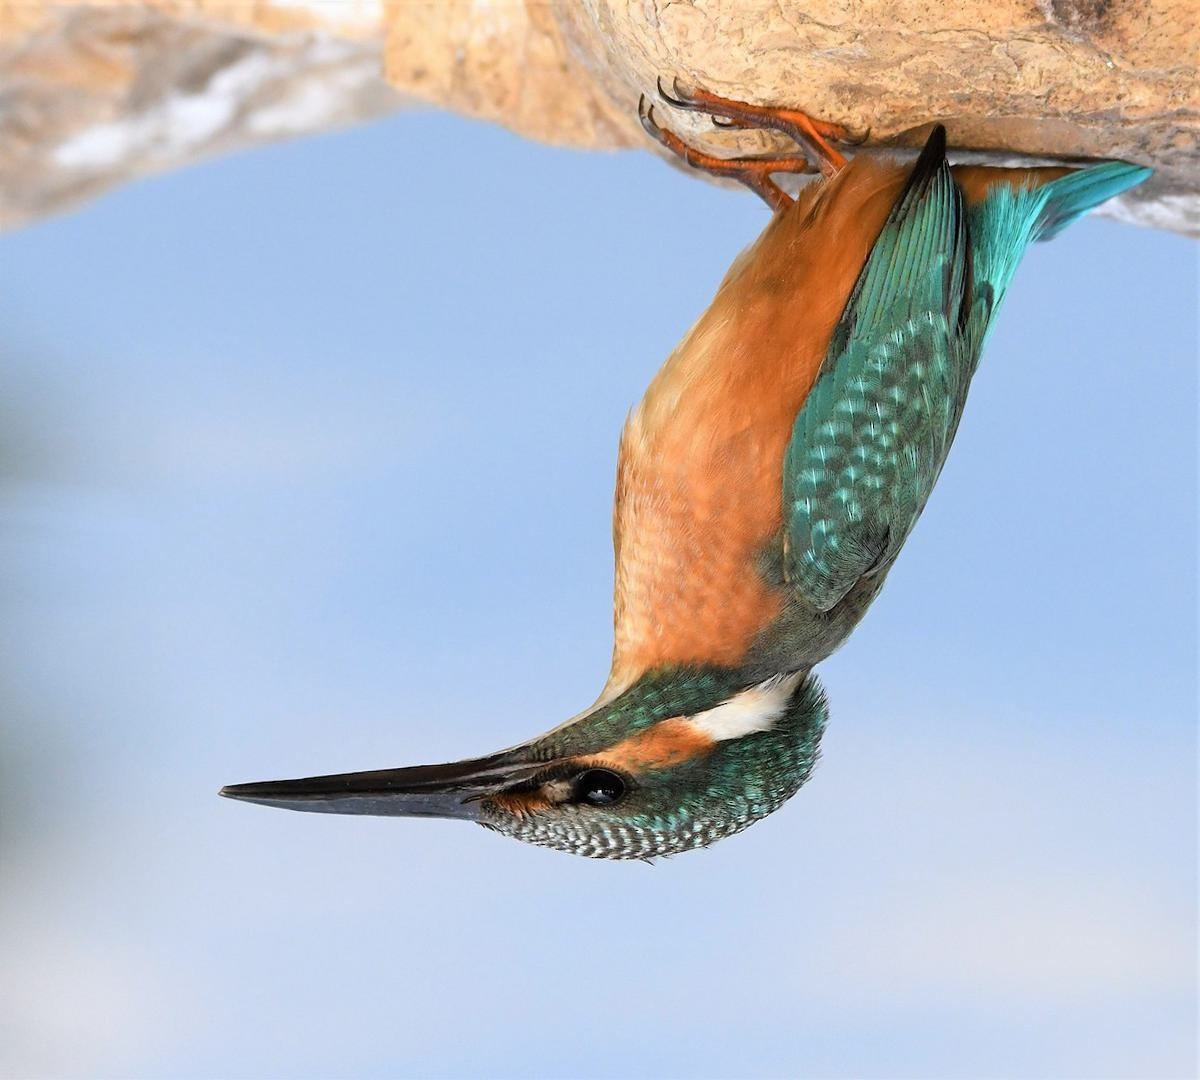kingfisher: (198, 63, 1134, 881)
